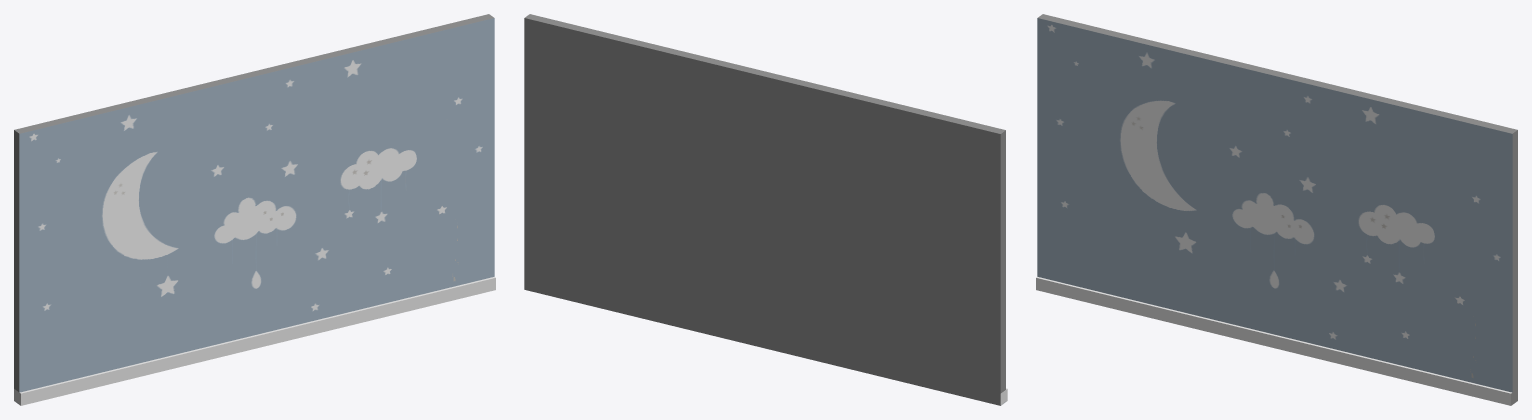
The model's file is Wall 1.FBX.
3 renders of one model, left to right at view 1: azimuth 30°, elevation 25°; view 2: azimuth 150°, elevation 25°; view 3: azimuth 330°, elevation 25°, orthographic.
Visible parts, largest first — view 1: Wall 1; view 2: Wall 1; view 3: Wall 1.
Part boxes in pixels (box(x1,y1,x2,y2)): Wall 1: box(14, 14, 495, 405); Wall 1: box(524, 14, 1007, 405); Wall 1: box(1036, 14, 1517, 405).
Bounding box in the file's own units: 451 × 246 × 11.22.
Materials: 2 (1 with a texture image).
